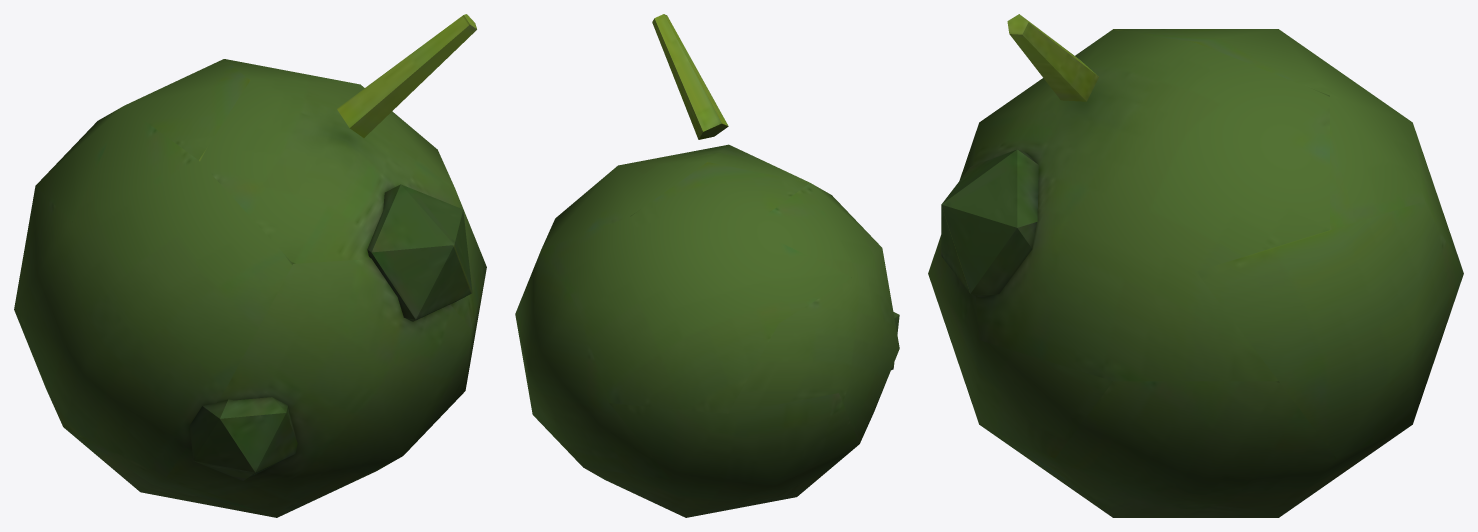
File: bola_barro.glb
3 views of the same model, side by side, from view 1: azimuth 30°, elevation 25°; view 2: azimuth 150°, elevation 25°; view 3: azimuth 270°, elevation 25° (orthographic). The views are drawn at different scales.
Parts seen in each view (by area): view 1: bola_barro; view 2: bola_barro; view 3: bola_barro.
Boxes of the visible parts, x1,y1,x2,y2 form: bola_barro: [14, 14, 486, 517]; bola_barro: [515, 14, 899, 517]; bola_barro: [928, 14, 1463, 517].
Size of the model in its own units: 0.856 by 1.04 by 0.9.
1 material, 1 textured.
